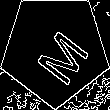M_NW: (23, 16, 87, 83)
